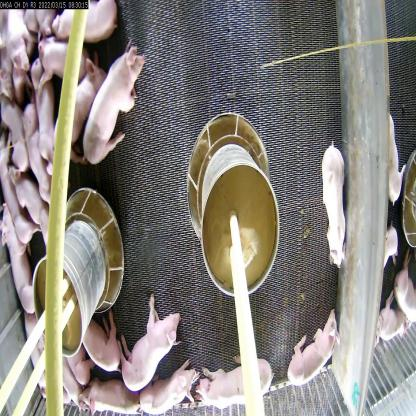Pig: (80, 42, 150, 162), (119, 293, 183, 397), (52, 59, 114, 165), (197, 348, 276, 409), (288, 302, 339, 392), (320, 140, 352, 272), (0, 212, 39, 313), (136, 354, 197, 416), (78, 313, 130, 377), (17, 108, 58, 188), (30, 53, 58, 164), (82, 370, 146, 415), (17, 180, 58, 243)
